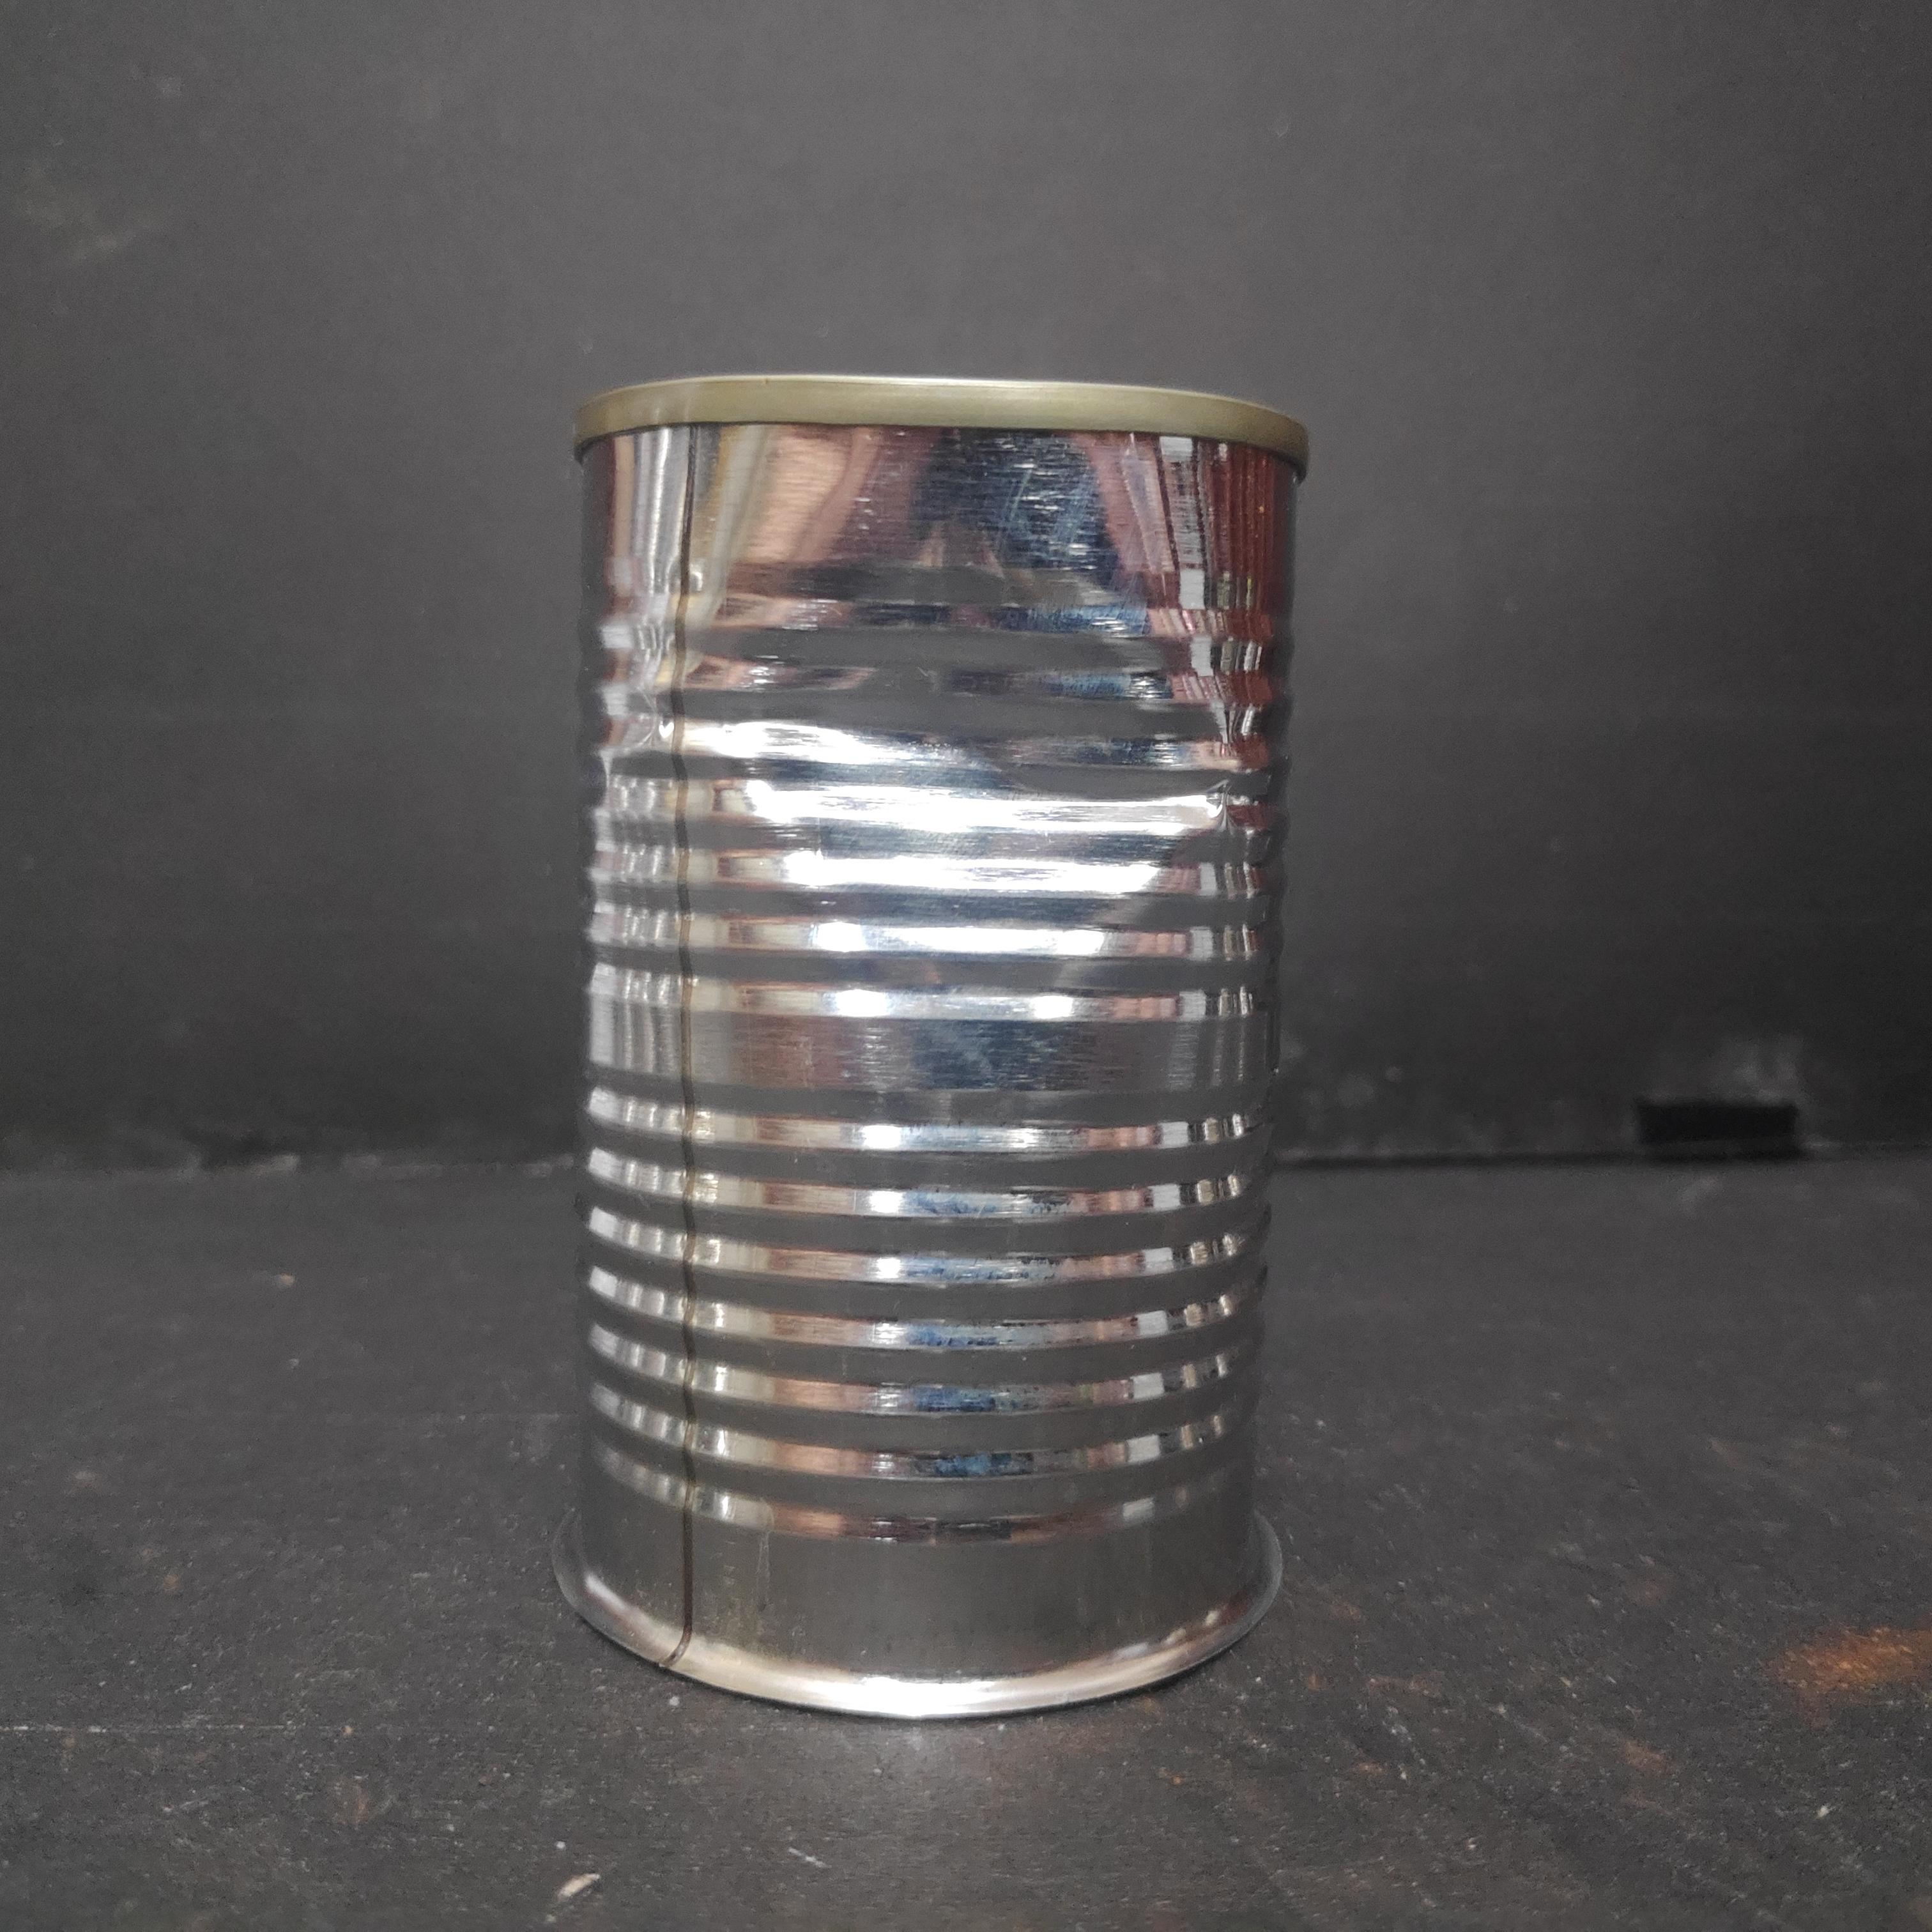Minor Defect: (550, 368, 1318, 1741)
